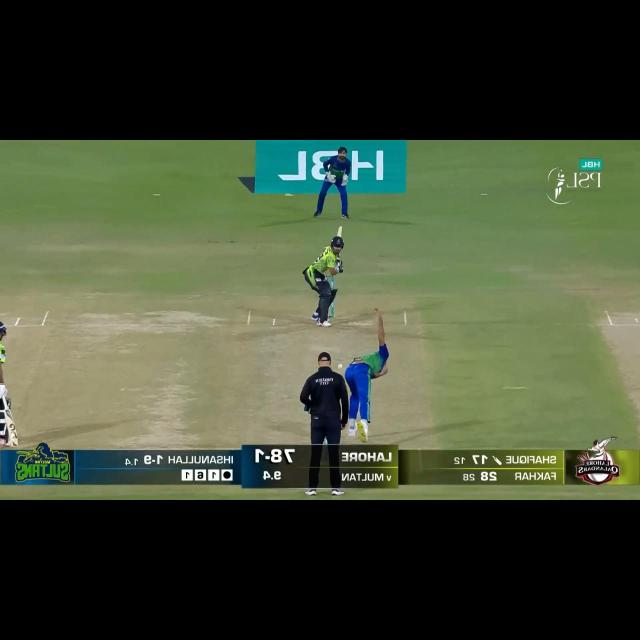bat: (4, 409, 20, 448), (337, 225, 342, 260)
toe: (8, 437, 18, 447), (335, 224, 344, 232)
